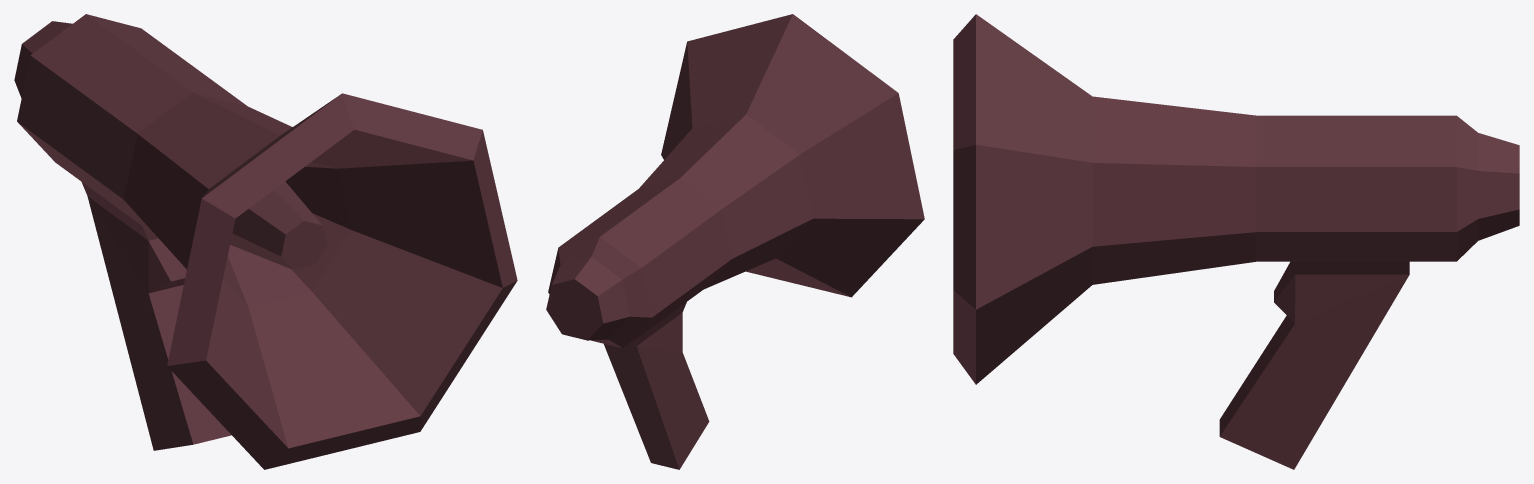
Rendered from megaphone.fbx.
3 views of the same model, side by side, from view 1: azimuth 30°, elevation 25°; view 2: azimuth 150°, elevation 25°; view 3: azimuth 270°, elevation 25° (orthographic). The views are drawn at different scales.
Visible parts, largest first — view 1: megaphone; view 2: megaphone; view 3: megaphone.
Boxes of the visible parts, x1,y1,x2,y2 form: megaphone: (14, 14, 517, 469); megaphone: (546, 14, 924, 469); megaphone: (953, 14, 1519, 469).
Bounding box in the file's own units: 0.2553 × 0.3321 × 0.3812.
